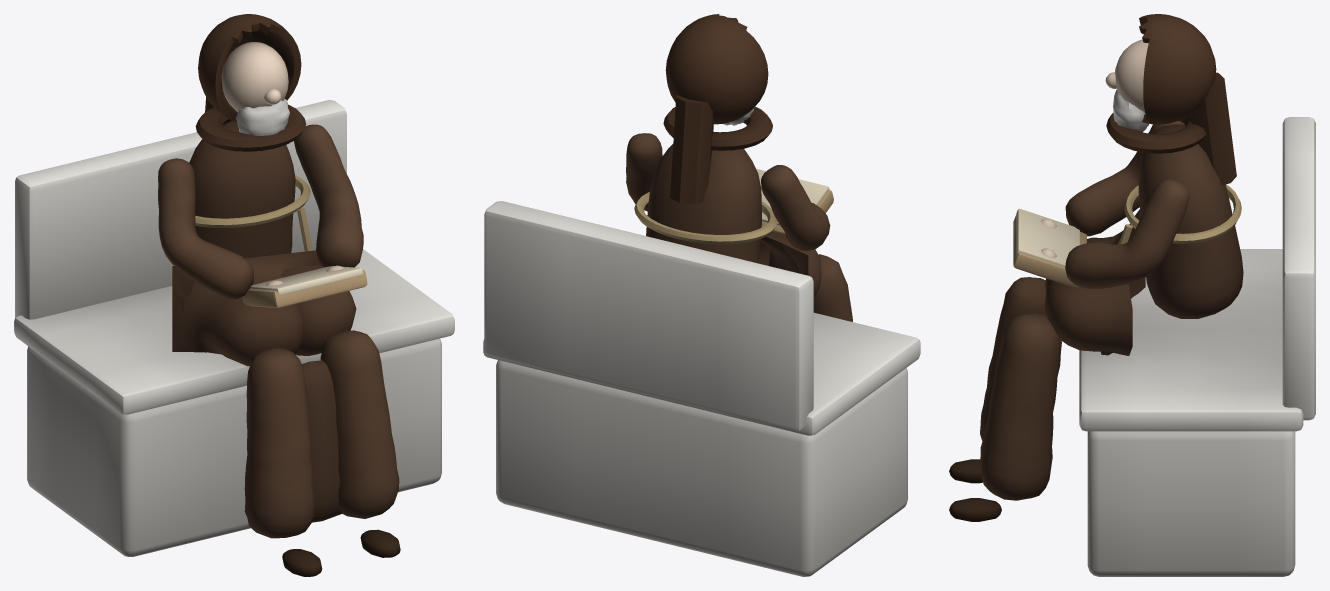
File: obj_kit_monk.glb
3 renders of one model, left to right at view 1: azimuth 30°, elevation 25°; view 2: azimuth 150°, elevation 25°; view 3: azimuth 270°, elevation 25°, orthographic.
Visible parts, largest first — view 1: Cube, Cube.002, Cube.001, lap, skirt.001, skirt, robe, sleeve.001, sleeve, Sphere.008, hem, Sphere.005 (+7 smaller); view 2: Cube, Cube.002, Cube.001, Sphere.008, robe, hoodback, sleeve.001, sleeve, lap, Torus, skirt.001, Torus.001 (+1 smaller); view 3: Cube, Cube.001, skirt, robe, Cube.002, Sphere.008, sleeve, lap, sleeve.001, hoodback, skirt.001, Cube.004 (+7 smaller).
Boxes of the visible parts, x1=… form: Cube: x1=27, y1=338, x2=441, y2=556; Cube.002: x1=15, y1=100, x2=346, y2=319; Cube.001: x1=14, y1=249, x2=454, y2=414; lap: x1=172, y1=250, x2=356, y2=366; skirt.001: x1=244, y1=347, x2=315, y2=538; skirt: x1=320, y1=330, x2=399, y2=518; robe: x1=189, y1=121, x2=295, y2=258; sleeve.001: x1=158, y1=158, x2=253, y2=299; sleeve: x1=294, y1=124, x2=363, y2=267; Sphere.008: x1=198, y1=14, x2=301, y2=121; hem: x1=302, y1=360, x2=342, y2=522; Sphere.005: x1=221, y1=42, x2=288, y2=112; Cube: x1=496, y1=360, x2=907, y2=576; Cube.002: x1=484, y1=201, x2=813, y2=430; Cube.001: x1=483, y1=312, x2=920, y2=435; Sphere.008: x1=665, y1=14, x2=768, y2=124; robe: x1=646, y1=144, x2=761, y2=263; hoodback: x1=670, y1=95, x2=713, y2=203; sleeve.001: x1=761, y1=165, x2=830, y2=251; sleeve: x1=626, y1=133, x2=662, y2=211; lap: x1=758, y1=232, x2=821, y2=297; Torus: x1=634, y1=192, x2=777, y2=244; skirt.001: x1=813, y1=254, x2=852, y2=321; Torus.001: x1=663, y1=106, x2=772, y2=150; Cube: x1=1087, y1=431, x2=1295, y2=576; Cube.001: x1=1079, y1=249, x2=1303, y2=431; skirt: x1=980, y1=313, x2=1061, y2=500; robe: x1=1138, y1=124, x2=1243, y2=318; Cube.002: x1=1282, y1=117, x2=1315, y2=420; Sphere.008: x1=1139, y1=14, x2=1216, y2=124; sleeve: x1=1065, y1=179, x2=1189, y2=288; lap: x1=1044, y1=209, x2=1145, y2=355; sleeve.001: x1=1065, y1=121, x2=1184, y2=236; hoodback: x1=1187, y1=72, x2=1236, y2=185; skirt.001: x1=980, y1=277, x2=1046, y2=440; Cube.004: x1=1016, y1=208, x2=1079, y2=266.
Bounding box in the file's own units: 0.94 × 1.28 × 0.8839.
